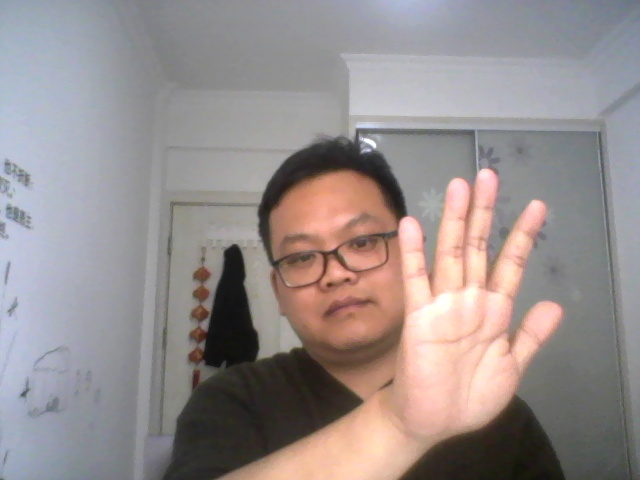Hello: (384, 165, 566, 442)
